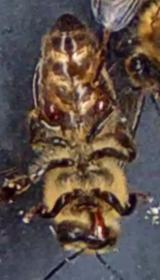varroa_mite: (83, 84, 116, 118), (37, 92, 66, 126)
